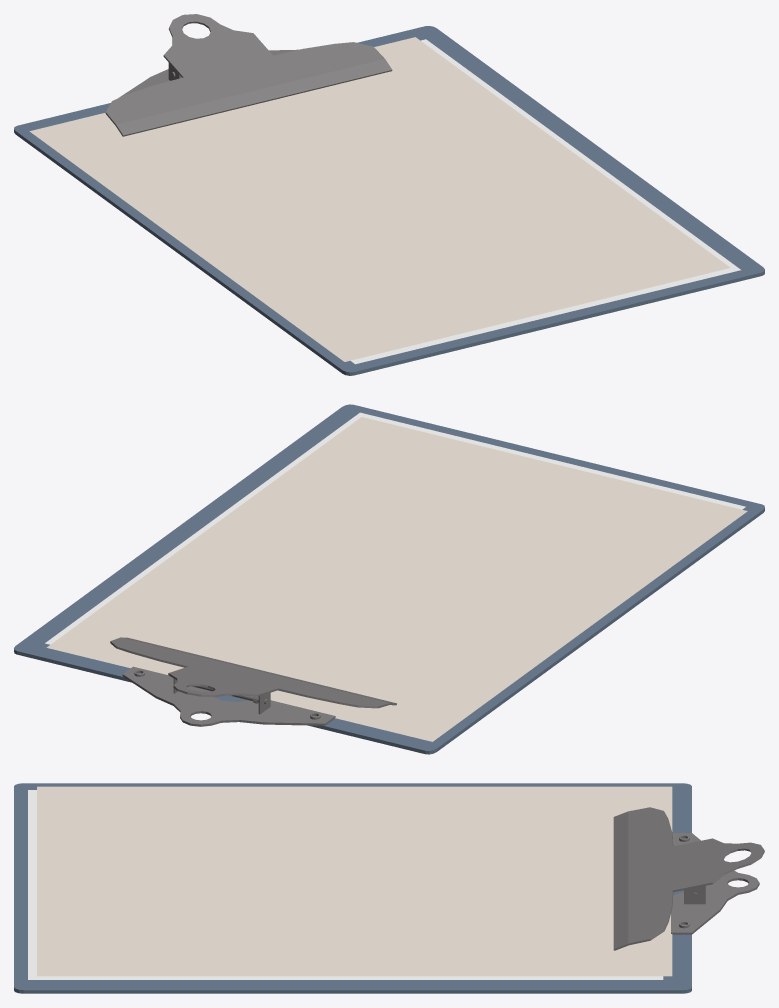
Rendered from Clipboard2 1.fbx.
3 renders of one model, top to bottom at view 1: azimuth 30°, elevation 25°; view 2: azimuth 150°, elevation 25°; view 3: azimuth 270°, elevation 25°, orthographic.
Parts seen in each view (by area): view 1: Sheet1, Board, Clip, Sheet2; view 2: Sheet1, Board, Clip, Sheet2; view 3: Sheet1, Board, Clip, Sheet2.
Part boxes in pixels (left/top/right/bottom): Sheet1: left=29, top=37, right=730, bottom=361; Board: left=14, top=26, right=764, bottom=375; Clip: left=105, top=14, right=392, bottom=136; Sheet2: left=350, top=39, right=740, bottom=364; Sheet1: left=46, top=417, right=747, bottom=741; Board: left=14, top=404, right=764, bottom=754; Clip: left=110, top=637, right=396, bottom=726; Sheet2: left=45, top=412, right=745, bottom=644; Sheet1: left=37, top=786, right=672, bottom=976; Board: left=14, top=783, right=691, bottom=993; Clip: left=613, top=807, right=764, bottom=950; Sheet2: left=28, top=790, right=663, bottom=979.
Bounding box in the file's own units: 22.9 × 35.11 × 2.02.
